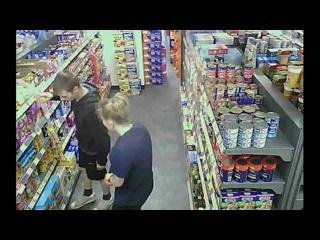Normal: (51, 71, 112, 203), (96, 92, 154, 210)
